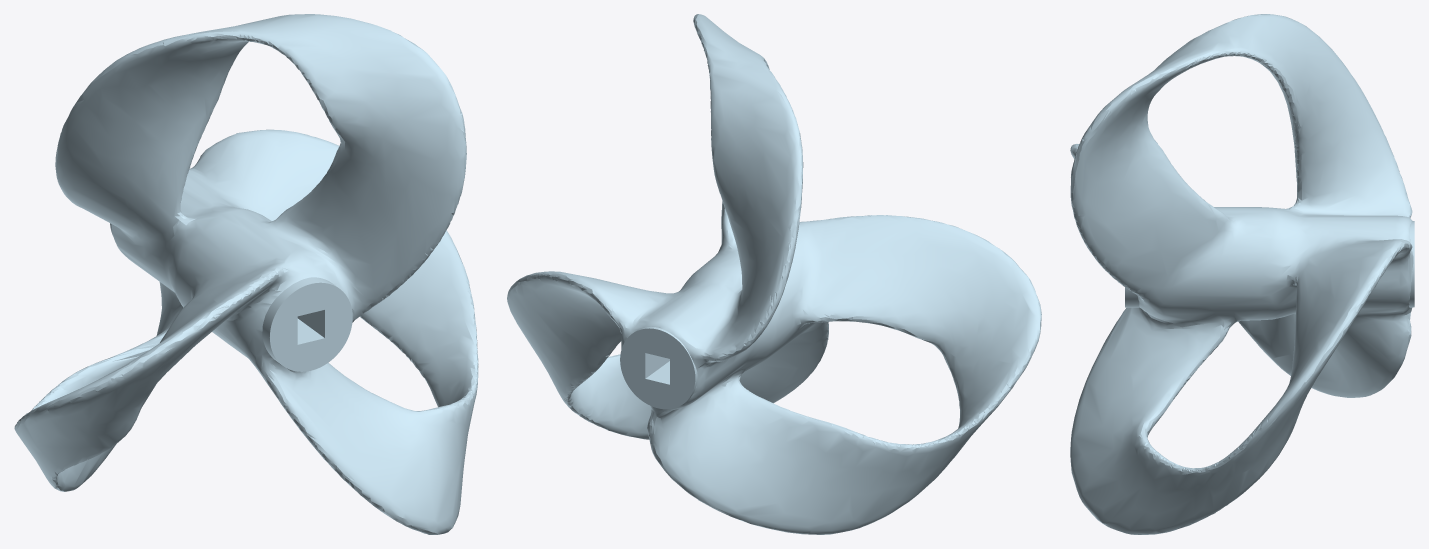
Rendered from Propeller (1).gltf.
3 renders of one model, left to right at view 1: azimuth 30°, elevation 25°; view 2: azimuth 150°, elevation 25°; view 3: azimuth 270°, elevation 25°, orthographic. The views are drawn at different scales.
Visible parts, largest first — view 1: Part 1; view 2: Part 1; view 3: Part 1.
Boxes of the visible parts, <box> form: Part 1: <box>14,14,478,534</box>; Part 1: <box>507,14,1041,534</box>; Part 1: <box>1070,14,1414,534</box>.
Size of the model in its own units: 0.06 by 0.0567 by 0.0397.
